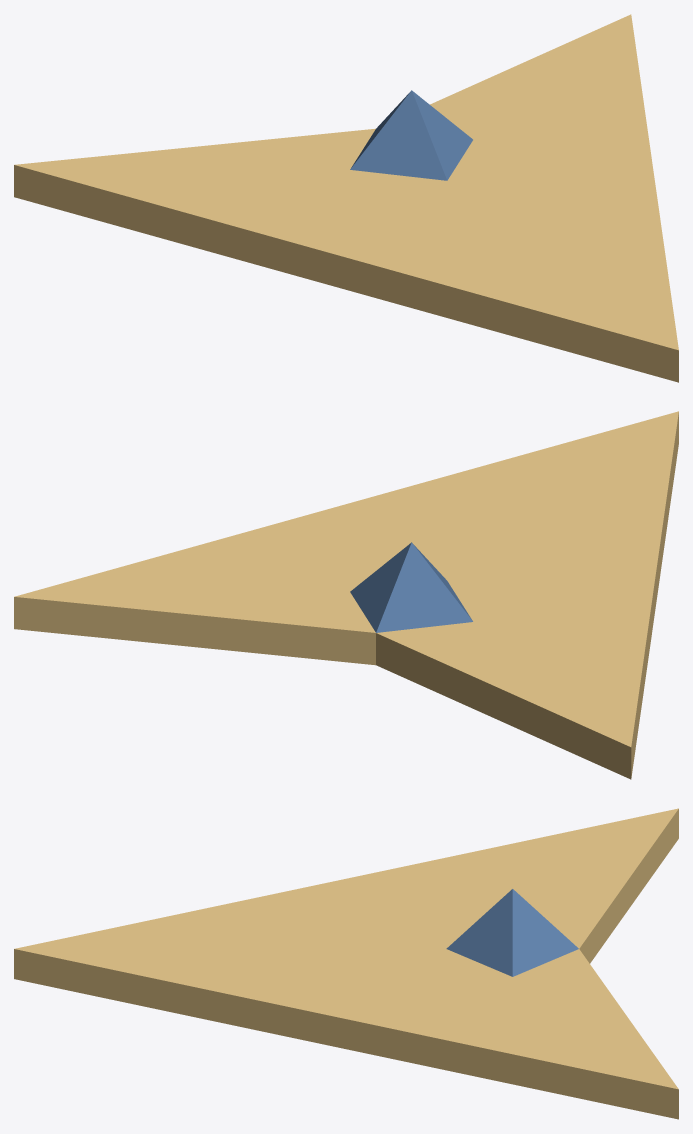
File: Anacia Lily.fbx
3 views of the same model, one above another, from view 1: azimuth 30°, elevation 25°; view 2: azimuth 150°, elevation 25°; view 3: azimuth 270°, elevation 25° (orthographic). The views are drawn at different scales.
Parts seen in each view (by area): view 1: Anacia Lily, Anacia Lily Flower; view 2: Anacia Lily, Anacia Lily Flower; view 3: Anacia Lily, Anacia Lily Flower.
Boxes of the visible parts, x1=… form: Anacia Lily: x1=14, y1=14, x2=678, y2=382; Anacia Lily Flower: x1=350, y1=90, x2=472, y2=180; Anacia Lily: x1=14, y1=411, x2=678, y2=779; Anacia Lily Flower: x1=350, y1=542, x2=472, y2=632; Anacia Lily: x1=14, y1=808, x2=678, y2=1119; Anacia Lily Flower: x1=446, y1=889, x2=578, y2=976.
Bounding box in the file's own units: 100 × 15 × 100.
